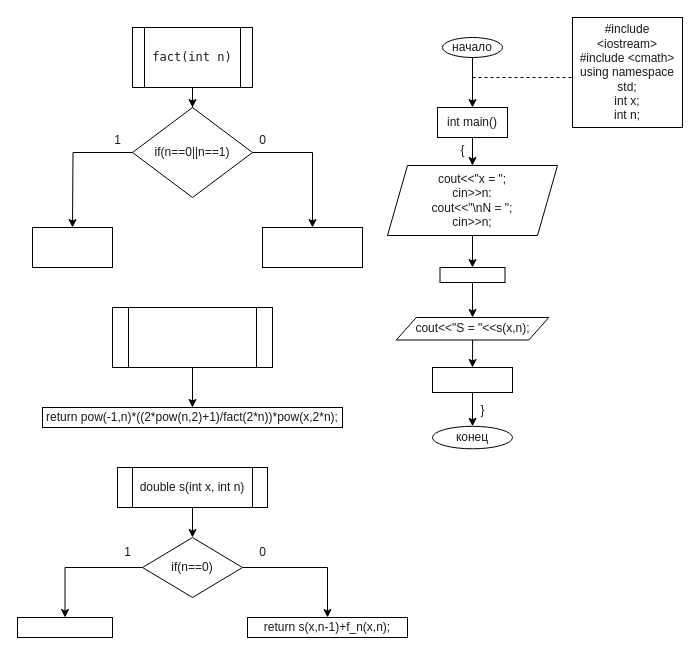
Some shapes in this 700 by 655 pixel diagram are drawn without their labels. The box of each missing label's shape, as (x1, y1, x2, y2) in pixels:
double f_n(int x, int n): (112, 306, 272, 368)
n=n-1;: (439, 266, 505, 282)
return 1;: (32, 226, 112, 268)
return f_n(x,n);: (16, 616, 112, 638)
return n*fact(n-1);: (262, 226, 362, 268)
return(0);: (432, 366, 512, 392)
